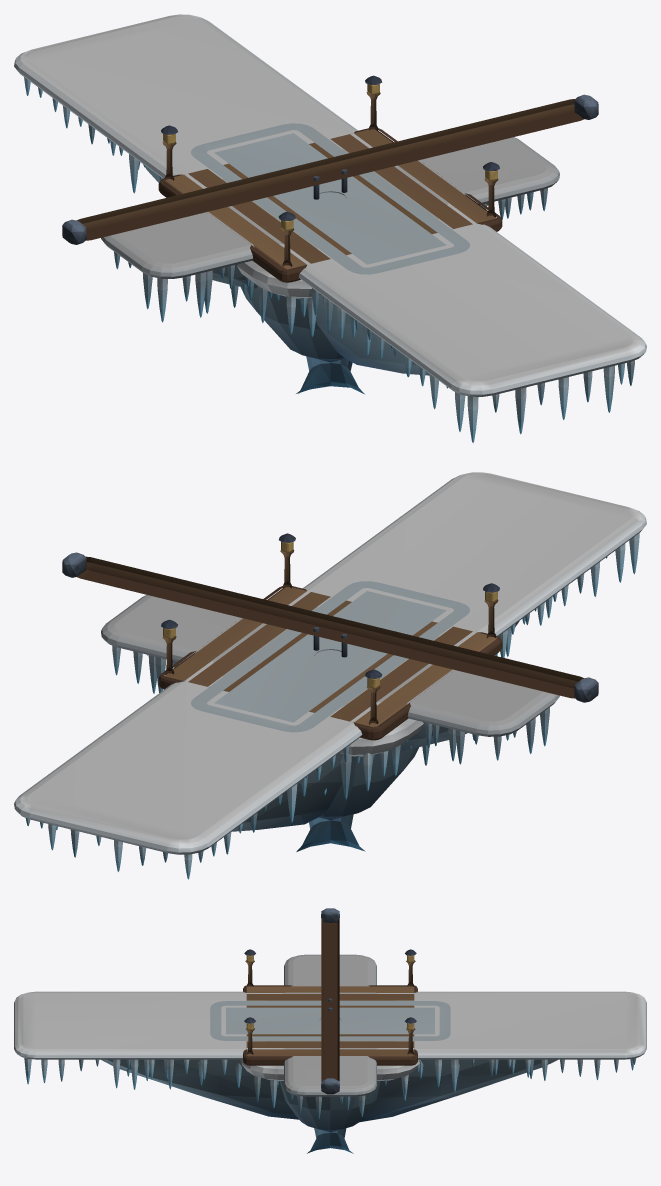
File: glacier-2-BH0qM2pR.glb
3 views of the same model, one above another, from view 1: azimuth 30°, elevation 25°; view 2: azimuth 150°, elevation 25°; view 3: azimuth 270°, elevation 25° (orthographic). The views are drawn at different scales.
Visible parts, largest first — view 1: block_10x2x43#1, block_7x2x17_ice#0, pad_12x2x12#1, mount_13.8#0, block_22x2x6#0, block_18x2x6#1, disc_12x1.5#1, support_0_round#0; view 2: block_10x2x43#1, block_7x2x17_ice#0, pad_12x2x12#1, mount_13.8#0, block_22x2x6#0, block_18x2x6#1, disc_12x1.5#1, support_0_round#0; view 3: block_10x2x43#1, pad_12x2x12#1, block_7x2x17_ice#0, mount_13.8#0, block_22x2x6#0, disc_12x1.5#1, block_18x2x6#1, block_9x2x29#1, support_0_round#0.
Boxes of the visible parts, x1,y1,x2,y2 form: block_10x2x43#1: (14,14,646,442); block_7x2x17_ice#0: (191,123,469,274); pad_12x2x12#1: (158,75,502,337); mount_13.8#0: (62,94,598,244); block_22x2x6#0: (101,137,559,322); block_18x2x6#1: (154,147,511,317); disc_12x1.5#1: (222,149,448,362); support_0_round#0: (296,191,364,394); block_10x2x43#1: (14,472,646,879); block_7x2x17_ice#0: (191,581,469,732); pad_12x2x12#1: (158,533,502,799); mount_13.8#0: (62,552,598,702); block_22x2x6#0: (101,595,559,761); block_18x2x6#1: (148,605,509,764); disc_12x1.5#1: (212,607,438,820); support_0_round#0: (296,649,365,851); block_10x2x43#1: (14,991,646,1122); pad_12x2x12#1: (240,949,420,1110); block_7x2x17_ice#0: (210,1001,450,1040); mount_13.8#0: (321,908,339,1094); block_22x2x6#0: (284,954,376,1119); disc_12x1.5#1: (266,992,394,1132); block_18x2x6#1: (285,968,375,1103); block_9x2x29#1: (126,1059,534,1088); support_0_round#0: (307,1018,353,1153).
Bounding box in the file's own units: 28.5 × 13.4 × 43.36.
